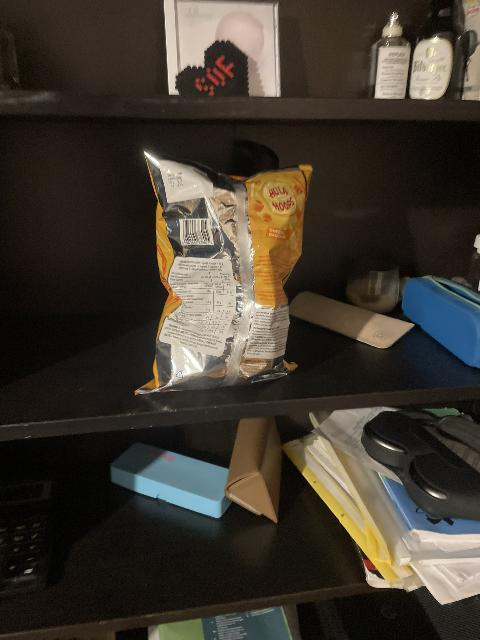Chio Hula Hoops Cheese 70g: (136, 154, 312, 387)
